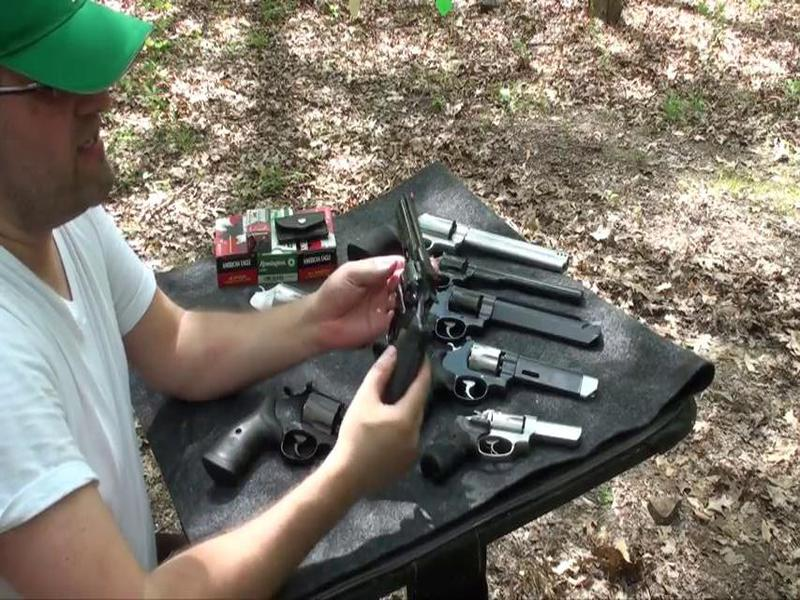Revolver: (345, 184, 450, 394)
